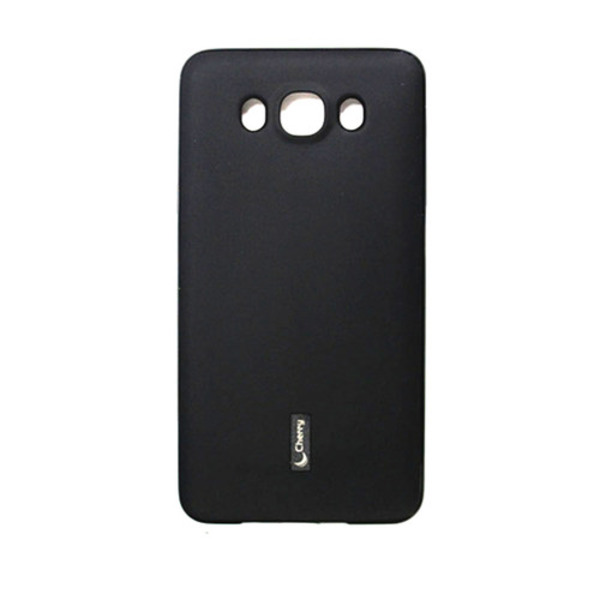Handphone: (171, 44, 430, 533)
